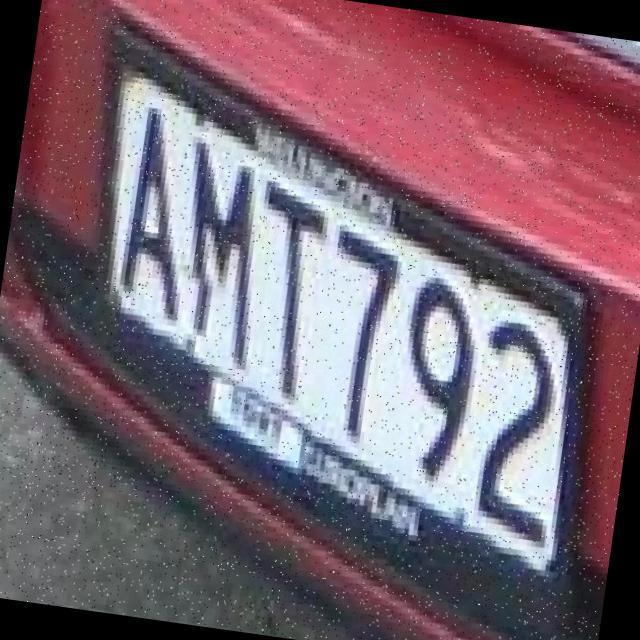License Plate: (36, 6, 640, 614)
